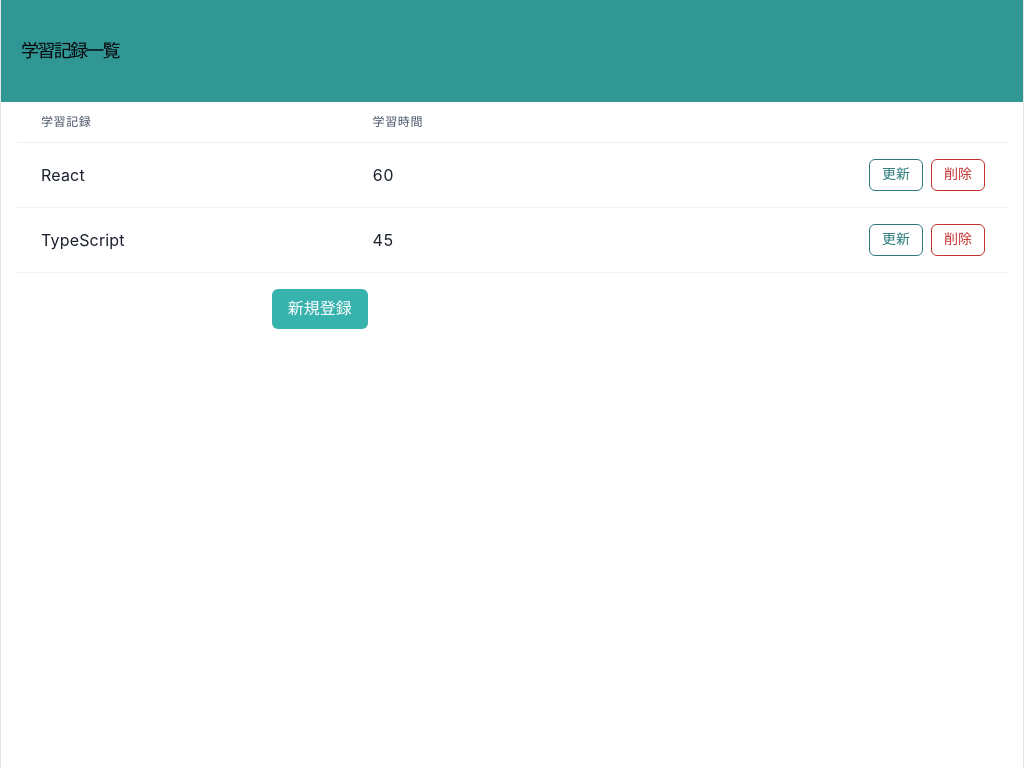
Scenario: StudyRecords › 更新モーダルを開くと更新対象の値が初期表示される
Click the button "更新" in the row of "React" at (896, 175), box [869, 159, 923, 191]
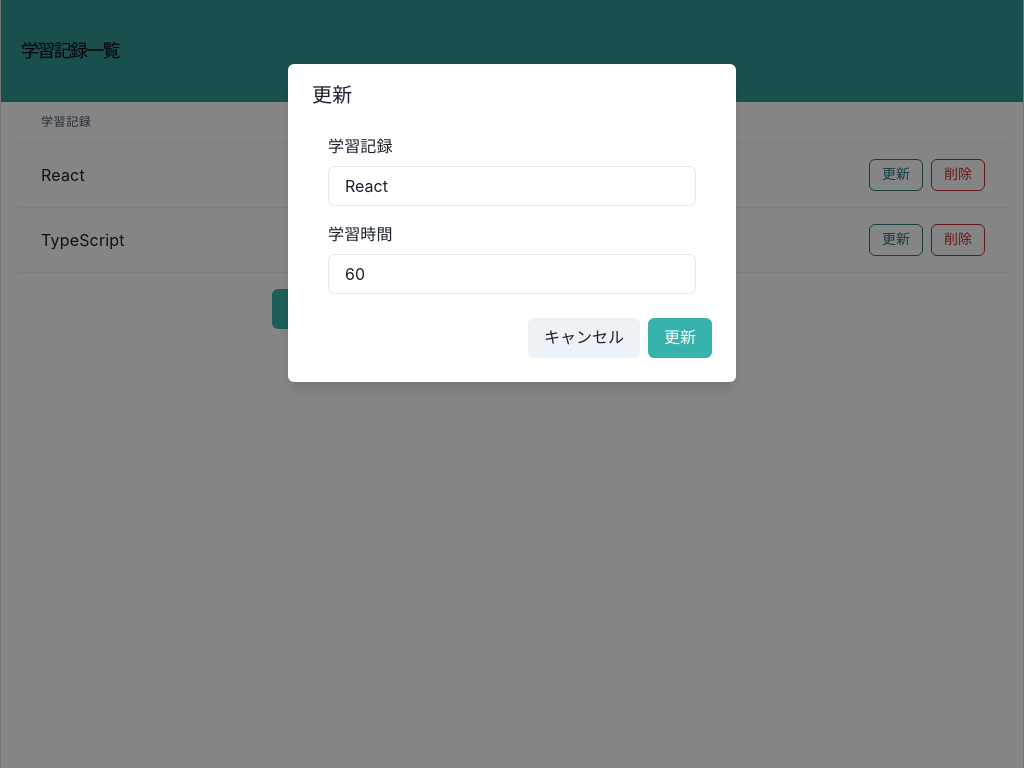
Check: the button "更新" is shown, box [648, 318, 712, 358]
Check: the field showing "React" is shown, box [328, 166, 696, 206]
Check: the number field showing "60" is shown, box [328, 254, 696, 294]
